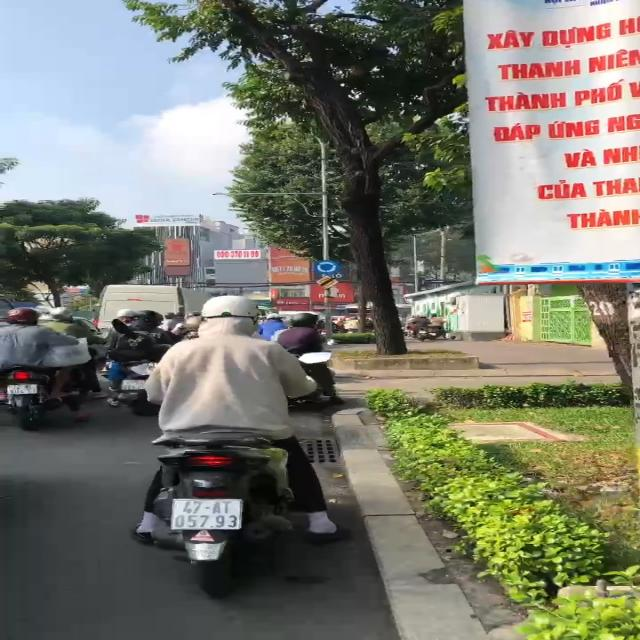Bien bao noi giao nhau chay theo vong xuyen: (311, 258, 341, 276)
